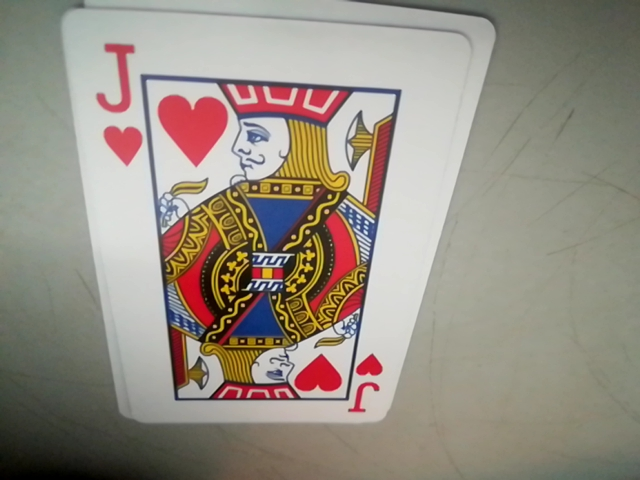hx j: (92, 44, 142, 170), (344, 353, 388, 416)
